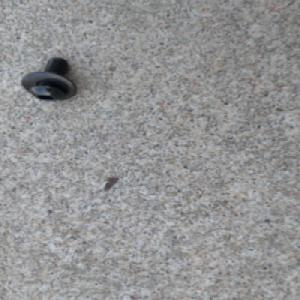BoltWasher: (20, 56, 80, 102)
